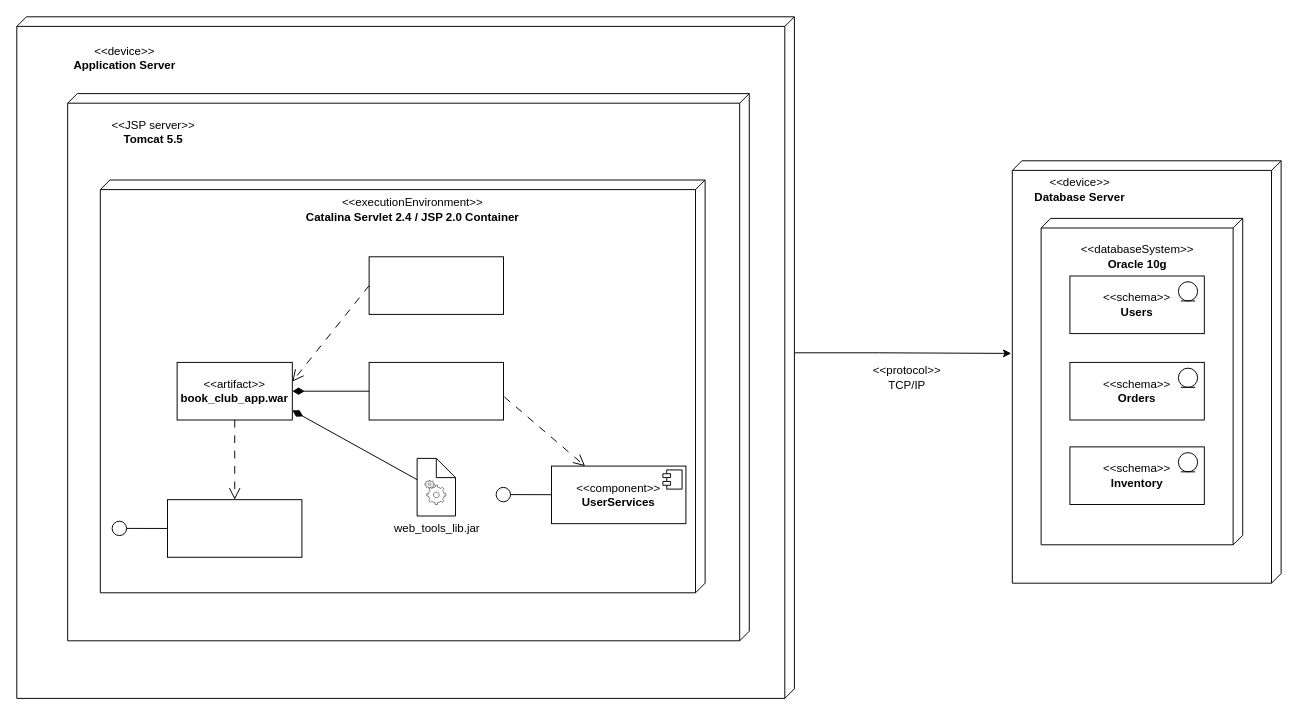
Some shapes in this 1298 by 715 pixel diagram are drawn without their labels. The centre of each missing label's shape, as x and y in pixels:
"<<artifact>> user_services.jar" belongs at (x=436, y=390).
"<<components>> OnlineOrders" belongs at (x=234, y=528).
"<<deployment spec>> web.fxml" belongs at (x=436, y=285).
